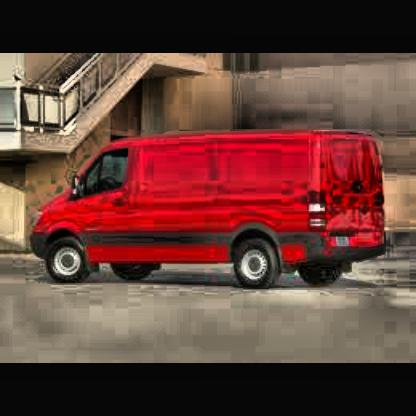Dodge Sprinter Cargo Van 2009: (28, 125, 391, 288)
